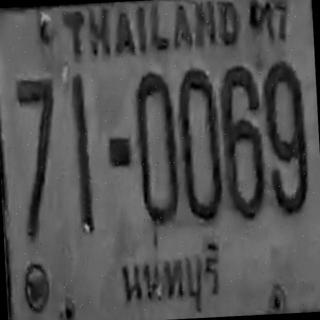N00: (133, 70, 181, 228), (176, 66, 224, 223), (262, 59, 310, 214)
N01: (70, 74, 93, 210)
N06: (218, 63, 267, 221)
N07: (15, 77, 58, 204), (15, 78, 58, 181), (15, 78, 57, 171)
N09: (262, 59, 310, 216)
P37: (117, 234, 227, 316)
